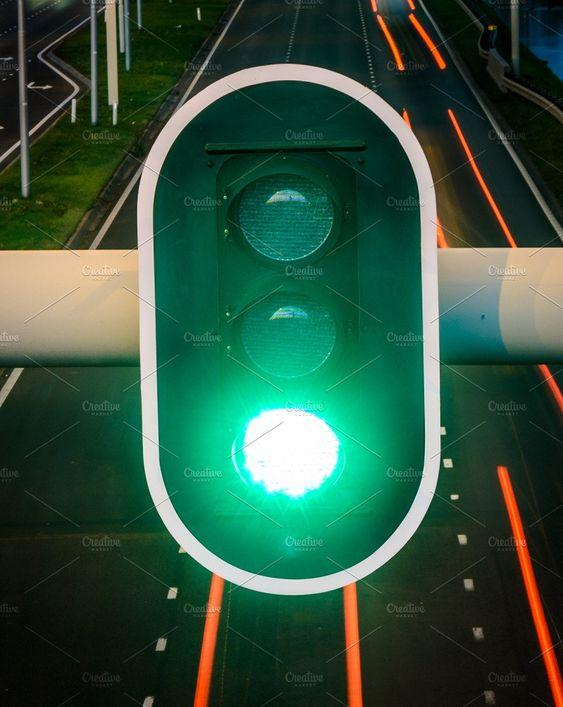Traffic light green: (165, 105, 387, 562)
